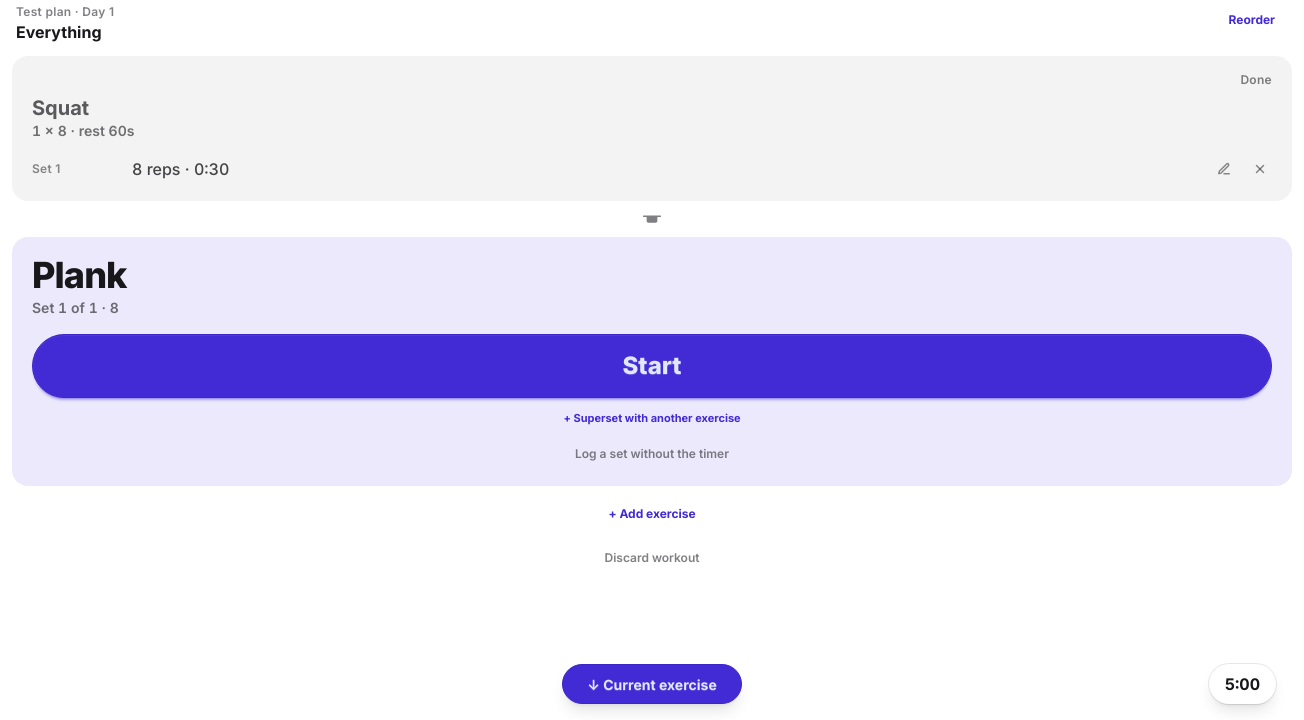
Scenario: active workout › ends the plan's last set with Done, not a rest
Click the button "Start" at (652, 366), box [32, 334, 1272, 398]
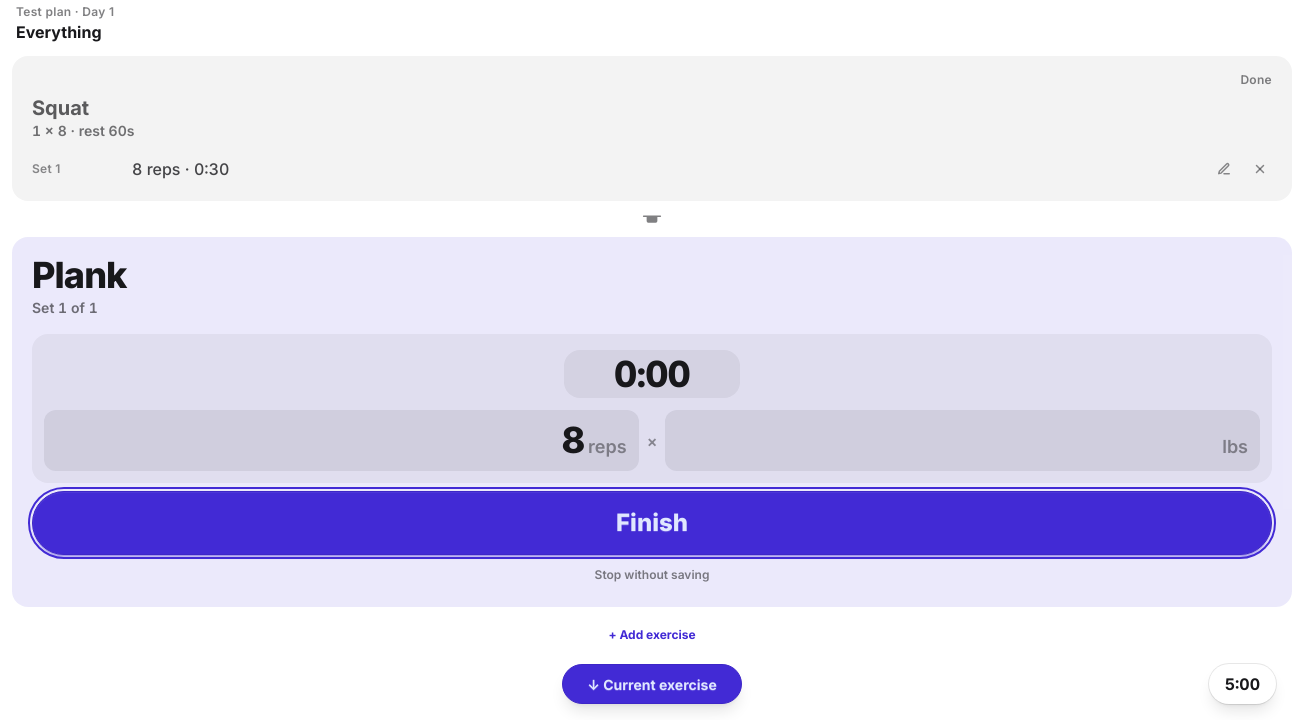
Click the button "Finish" at (652, 523), box [32, 491, 1272, 555]
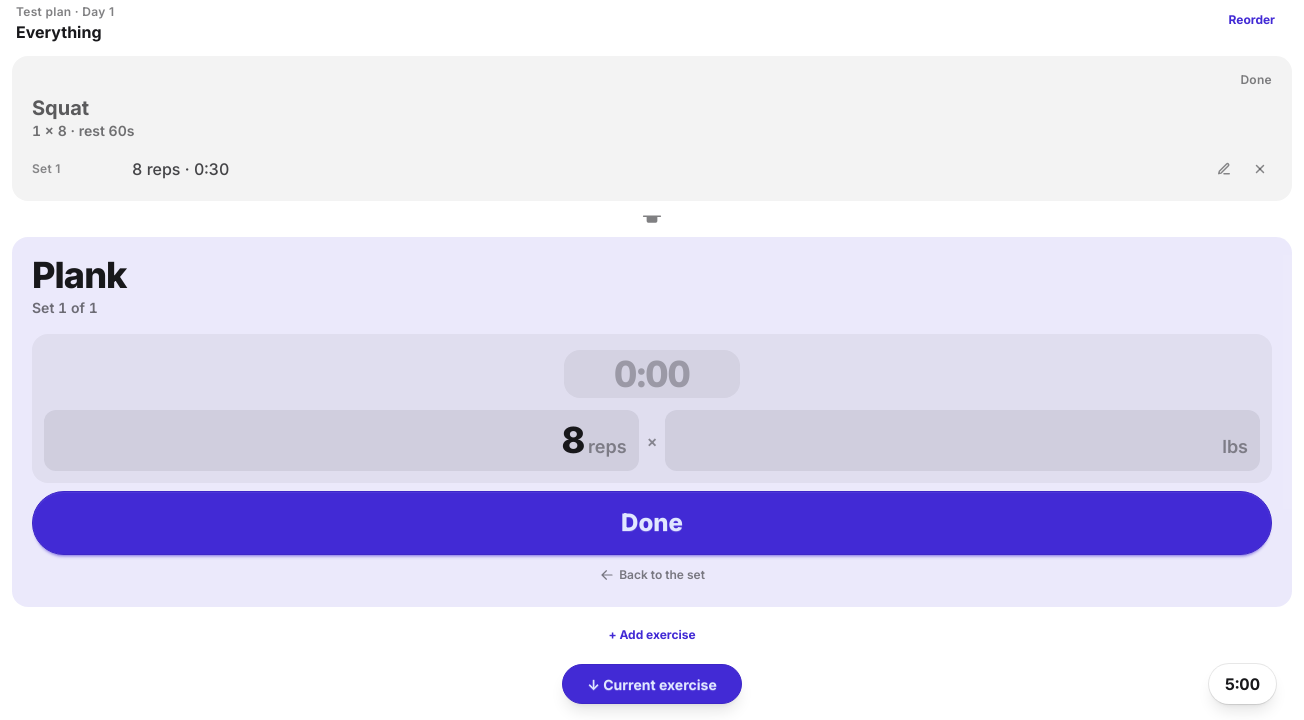
Now the button "Done" is shown
Click the button "Done" at (652, 523), box [32, 491, 1272, 555]
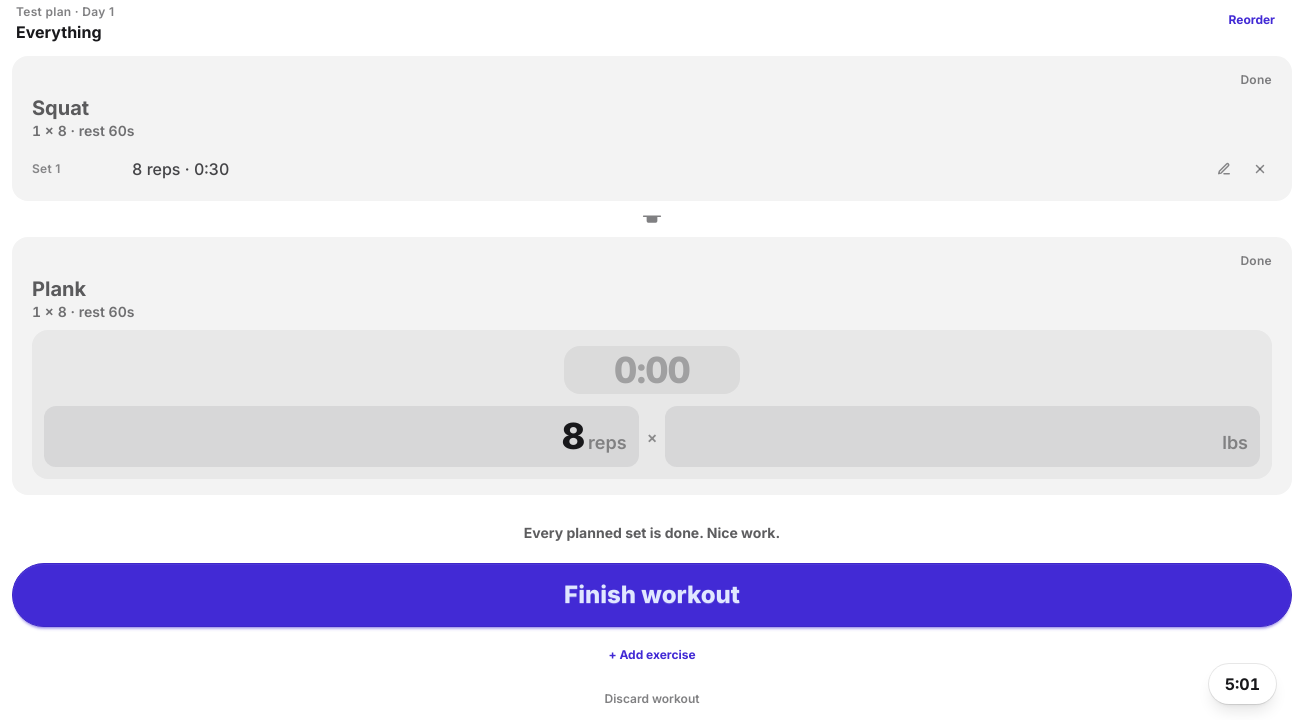
Expected: the button "Start" is not shown
Now the text "Every planned set is done. Nice work." is shown, box [524, 523, 780, 543]
Now the button "Finish workout" is shown, box [12, 563, 1292, 627]
